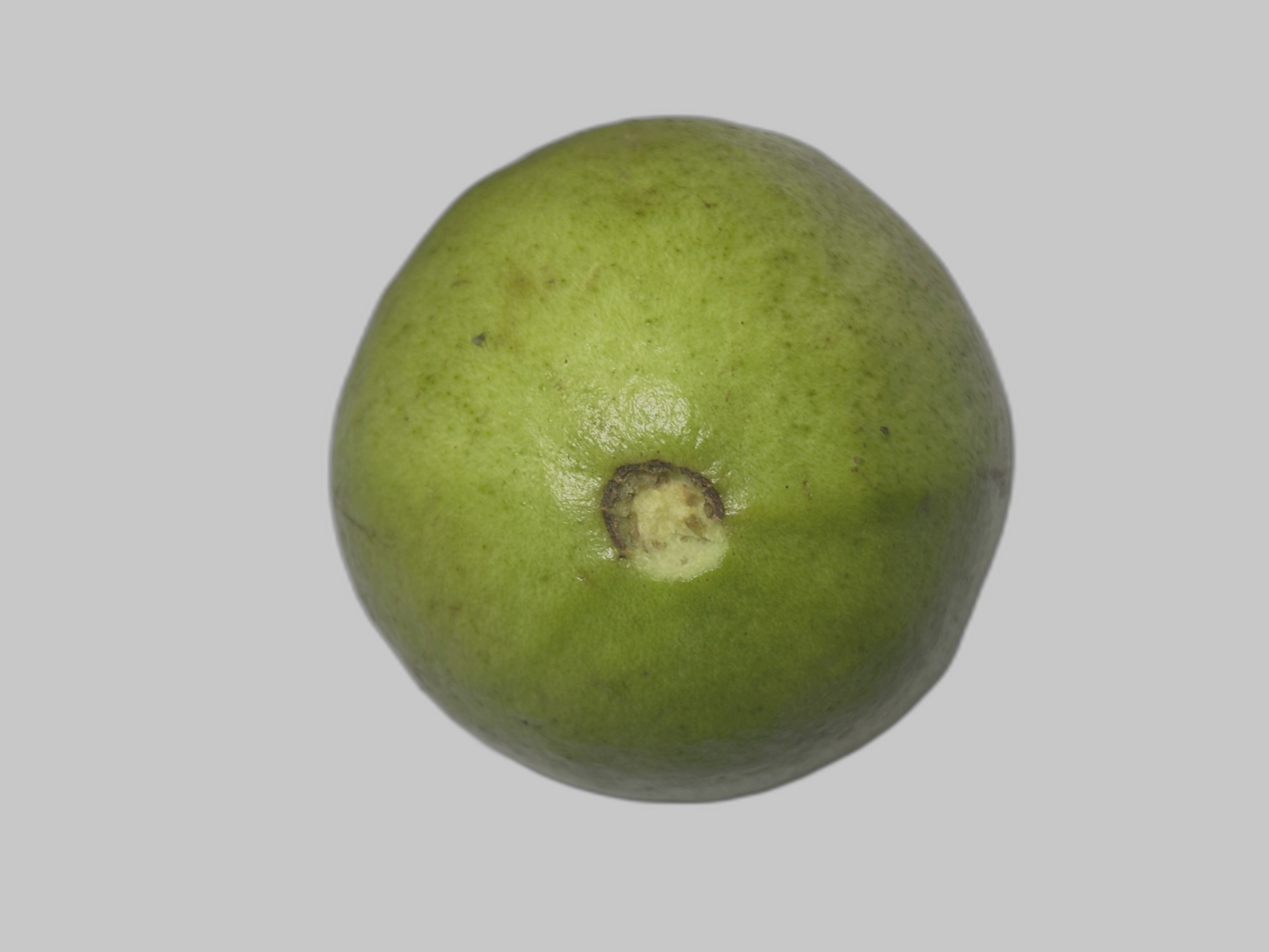guava: (227, 133, 1266, 831)
